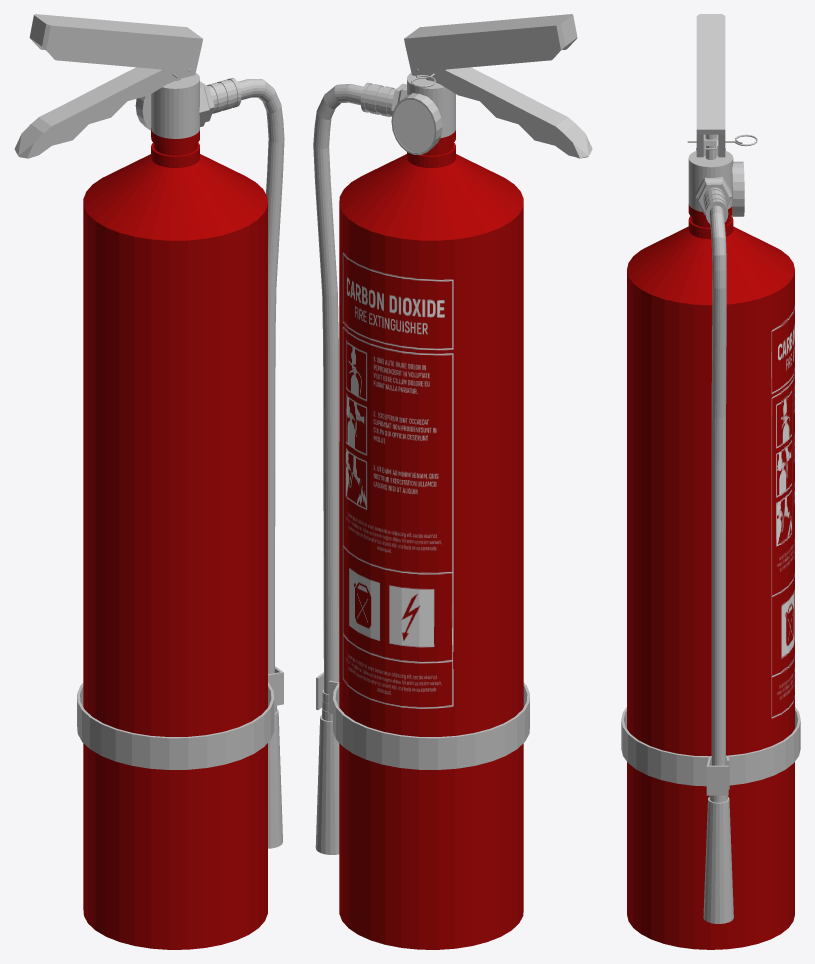
The model's file is Fire_Extinguisher.fbx.
3 views of the same model, side by side, from view 1: azimuth 30°, elevation 25°; view 2: azimuth 150°, elevation 25°; view 3: azimuth 270°, elevation 25° (orthographic). The views are drawn at different scales.
Parts seen in each view (by area): view 1: fire extinguisher; view 2: fire extinguisher; view 3: fire extinguisher.
Boxes of the visible parts, x1=… form: fire extinguisher: x1=14, y1=14, x2=284, y2=949; fire extinguisher: x1=313, y1=14, x2=592, y2=949; fire extinguisher: x1=621, y1=14, x2=800, y2=949.
Size of the model in its own units: 33.7 by 110 by 21.36.
